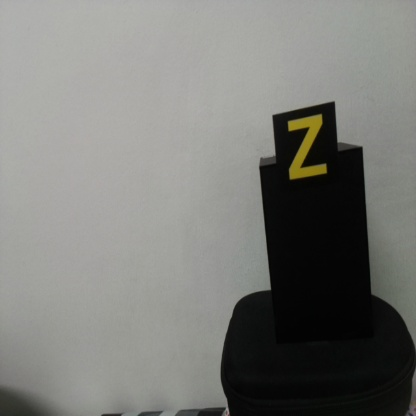id_15: (273, 114, 340, 192)
